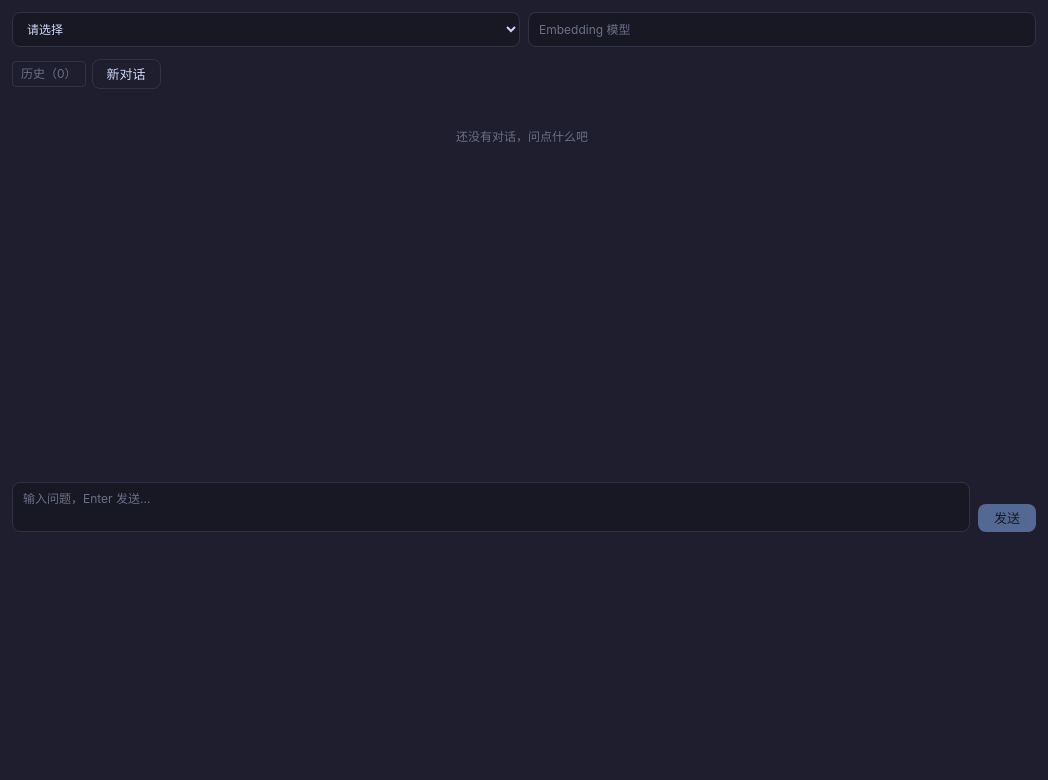
Test case: ① 知识库问答的「自动清理」下拉：真抛错不许把乐观值留在屏上 › reject ⇒ 下拉回到改之前的值，且 toast 逐字给出原因（§221 只管到了 resolve 面这一半）
The image size is (1048, 780).
Click the button "历史（0）" at (49, 74), box top-left (12, 61), bottom-right (86, 87)
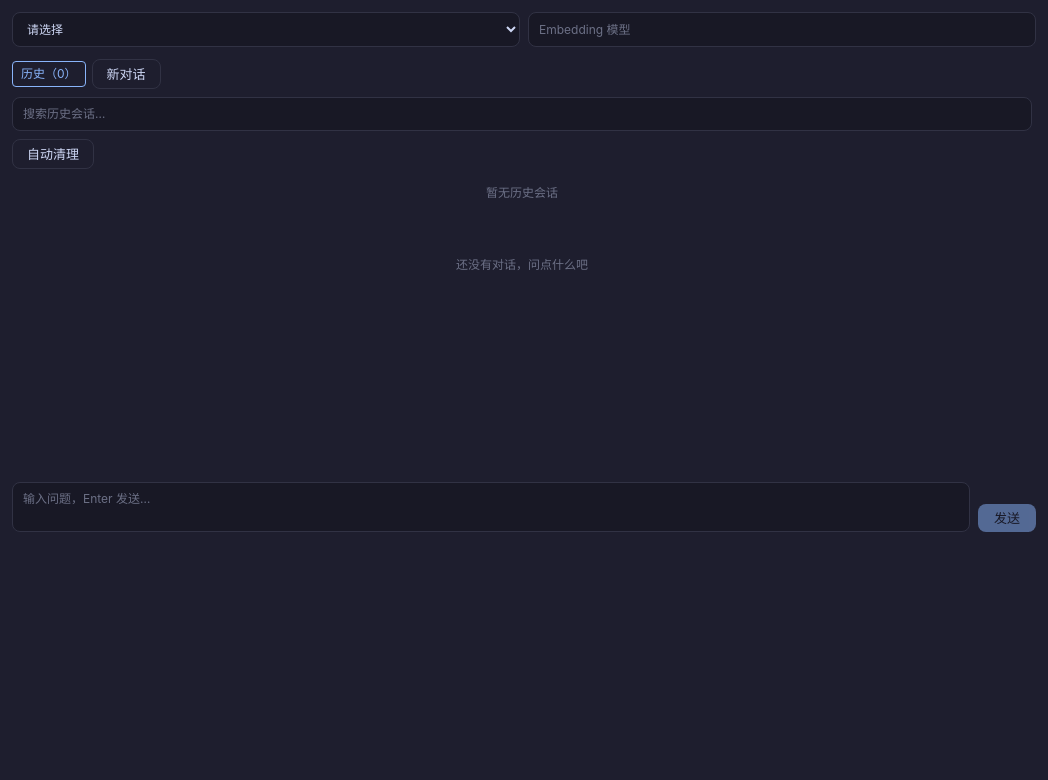
Click the button "自动清理" at (53, 154), box top-left (12, 139), bottom-right (94, 169)
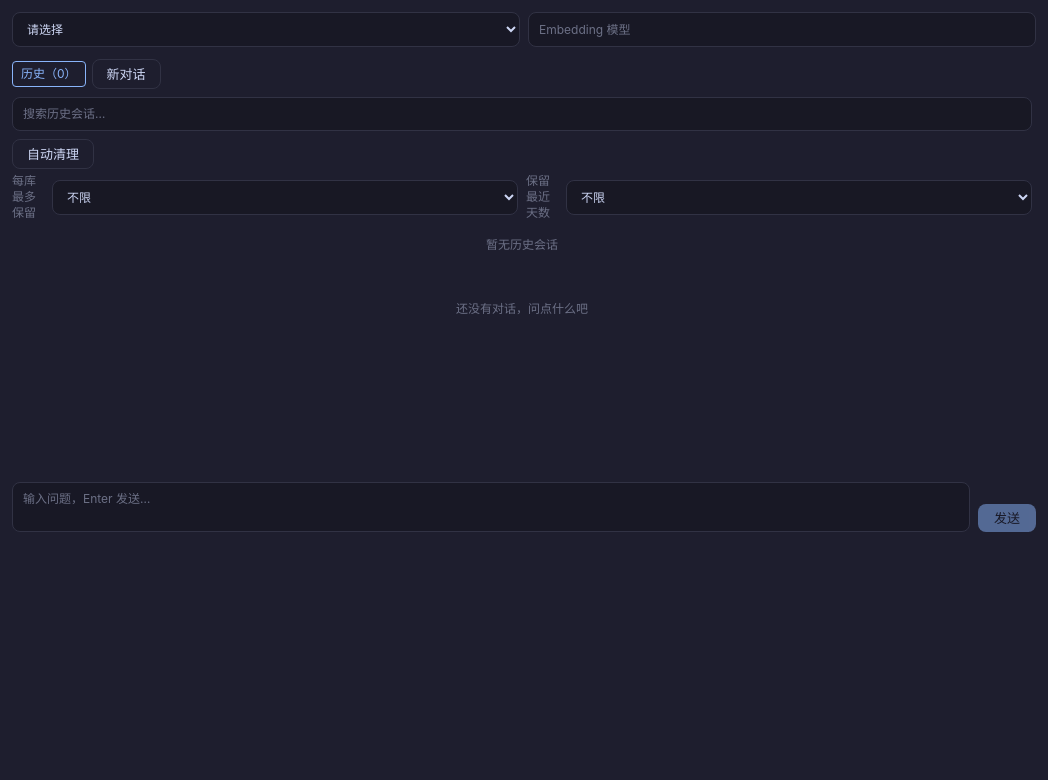
Select "50" in the 2nd dropdown at (285, 197), box top-left (52, 180), bottom-right (518, 214)
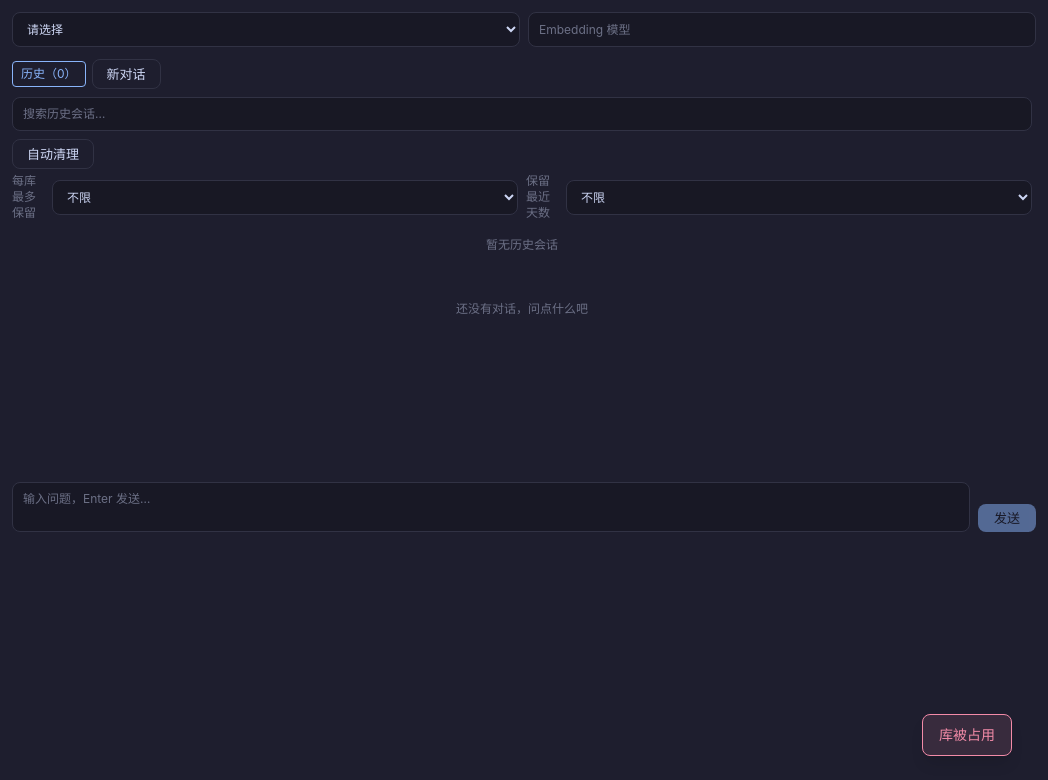
Expected: the message reads "库被占用", top-left (939, 726), bottom-right (995, 743)
